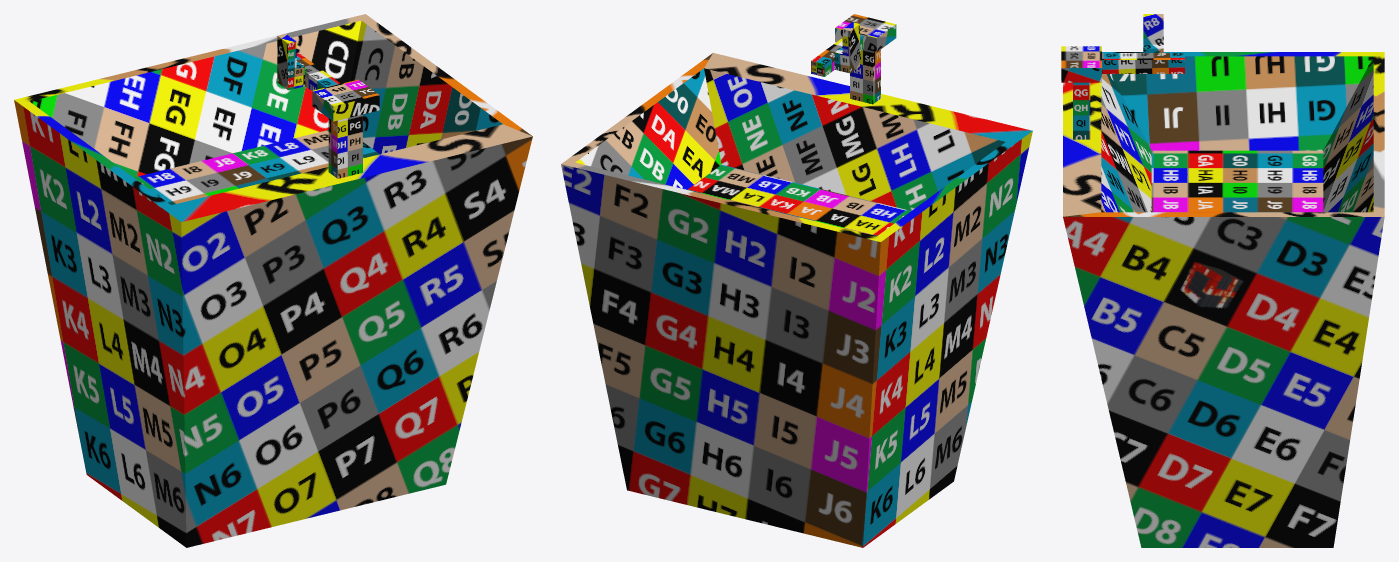
File: basin.FBX
The picture shows the model from 3 angles, left to right: view 1: azimuth 30°, elevation 25°; view 2: azimuth 150°, elevation 25°; view 3: azimuth 270°, elevation 25°; orthographic projection. The views are drawn at different scales.
Visible parts, largest first — view 1: Box008, basin; view 2: Box008, basin; view 3: Box008, basin.
Boxes of the visible parts, x1,y1,x2,y2 form: Box008: [14, 14, 532, 547]; basin: [277, 34, 379, 178]; Box008: [561, 53, 1032, 547]; basin: [811, 14, 896, 104]; Box008: [1063, 52, 1384, 547]; basin: [1061, 14, 1184, 139].
Bounding box in the file's own units: 1.01 × 1.32 × 0.8378.
Materials: 1 (1 with a texture image).
